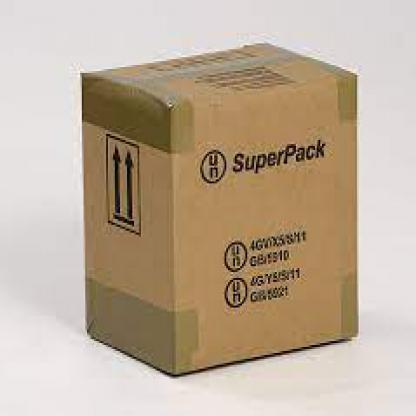package: (82, 42, 359, 375)
